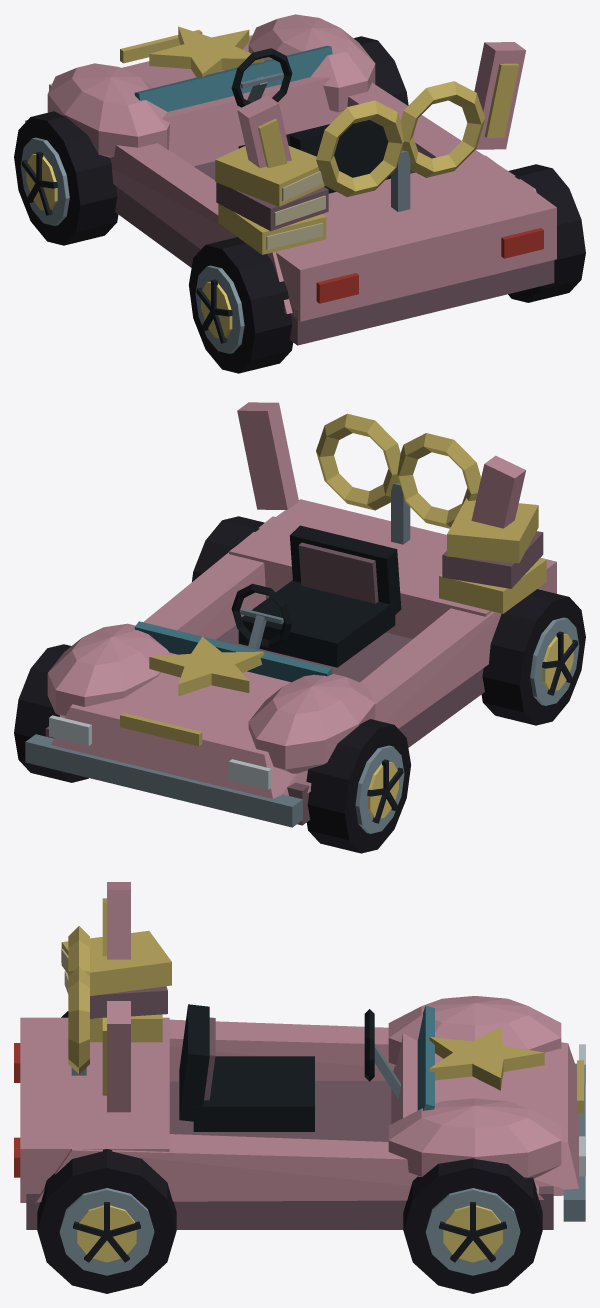
Rendered from kart.glb.
3 renders of one model, top to bottom at view 1: azimuth 30°, elevation 25°; view 2: azimuth 150°, elevation 25°; view 3: azimuth 270°, elevation 25°, orthographic. The views are drawn at different scales.
Visible parts, largest first — view 1: identity-toy-car-toy-rounded-body-and-wind-up-key, wheel-rear-left, wheel-front-left, identity-toy-car-motif-books, identity-toy-car-motif-ears, identity-toy-car-driver-cockpit, wheel-rear-right, identity-toy-car-motif-star, wheel-front-right; view 2: identity-toy-car-toy-rounded-body-and-wind-up-key, identity-toy-car-driver-cockpit, wheel-rear-left, wheel-front-left, identity-toy-car-motif-books, identity-toy-car-motif-ears, identity-toy-car-motif-star, wheel-front-right, wheel-rear-right; view 3: identity-toy-car-toy-rounded-body-and-wind-up-key, wheel-rear-right, wheel-front-right, identity-toy-car-driver-cockpit, identity-toy-car-motif-books, identity-toy-car-motif-ears, identity-toy-car-motif-star.
Boxes of the visible parts, x1,y1,x2,y2 form: identity-toy-car-toy-rounded-body-and-wind-up-key: (25,14,556,345); wheel-rear-left: (189,237,293,373); wheel-front-left: (14,111,118,245); identity-toy-car-motif-books: (215,146,328,254); identity-toy-car-motif-ears: (237,42,525,167); identity-toy-car-driver-cockpit: (231,48,390,193); wheel-rear-right: (508,164,585,302); identity-toy-car-motif-star: (149,26,264,77); wheel-front-right: (353,36,408,105); identity-toy-car-toy-rounded-body-and-wind-up-key: (25,413,556,827); identity-toy-car-driver-cockpit: (231,525,401,667); wheel-rear-left: (481,589,585,725); wheel-front-left: (306,719,410,853); identity-toy-car-motif-books: (439,498,546,613); identity-toy-car-motif-ears: (237,402,525,528); identity-toy-car-motif-star: (149,637,264,696); wheel-front-right: (14,644,88,782); wheel-rear-right: (192,516,264,581); identity-toy-car-toy-rounded-body-and-wind-up-key: (14,926,585,1229); wheel-rear-right: (37,1149,176,1293); wheel-front-right: (403,1158,542,1293); identity-toy-car-driver-cockpit: (179,1004,400,1131); identity-toy-car-motif-books: (61,930,171,1042); identity-toy-car-motif-ears: (102,882,130,1112); identity-toy-car-motif-star: (429,1027,544,1090).
Size of the model in its own units: 2.13 by 1.46 by 2.88.
